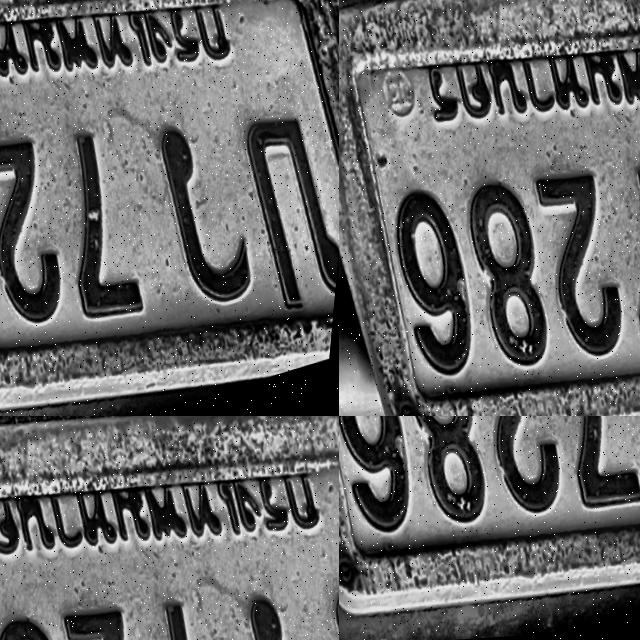license-plate: (339, 416, 640, 640), (314, 275, 339, 369)
